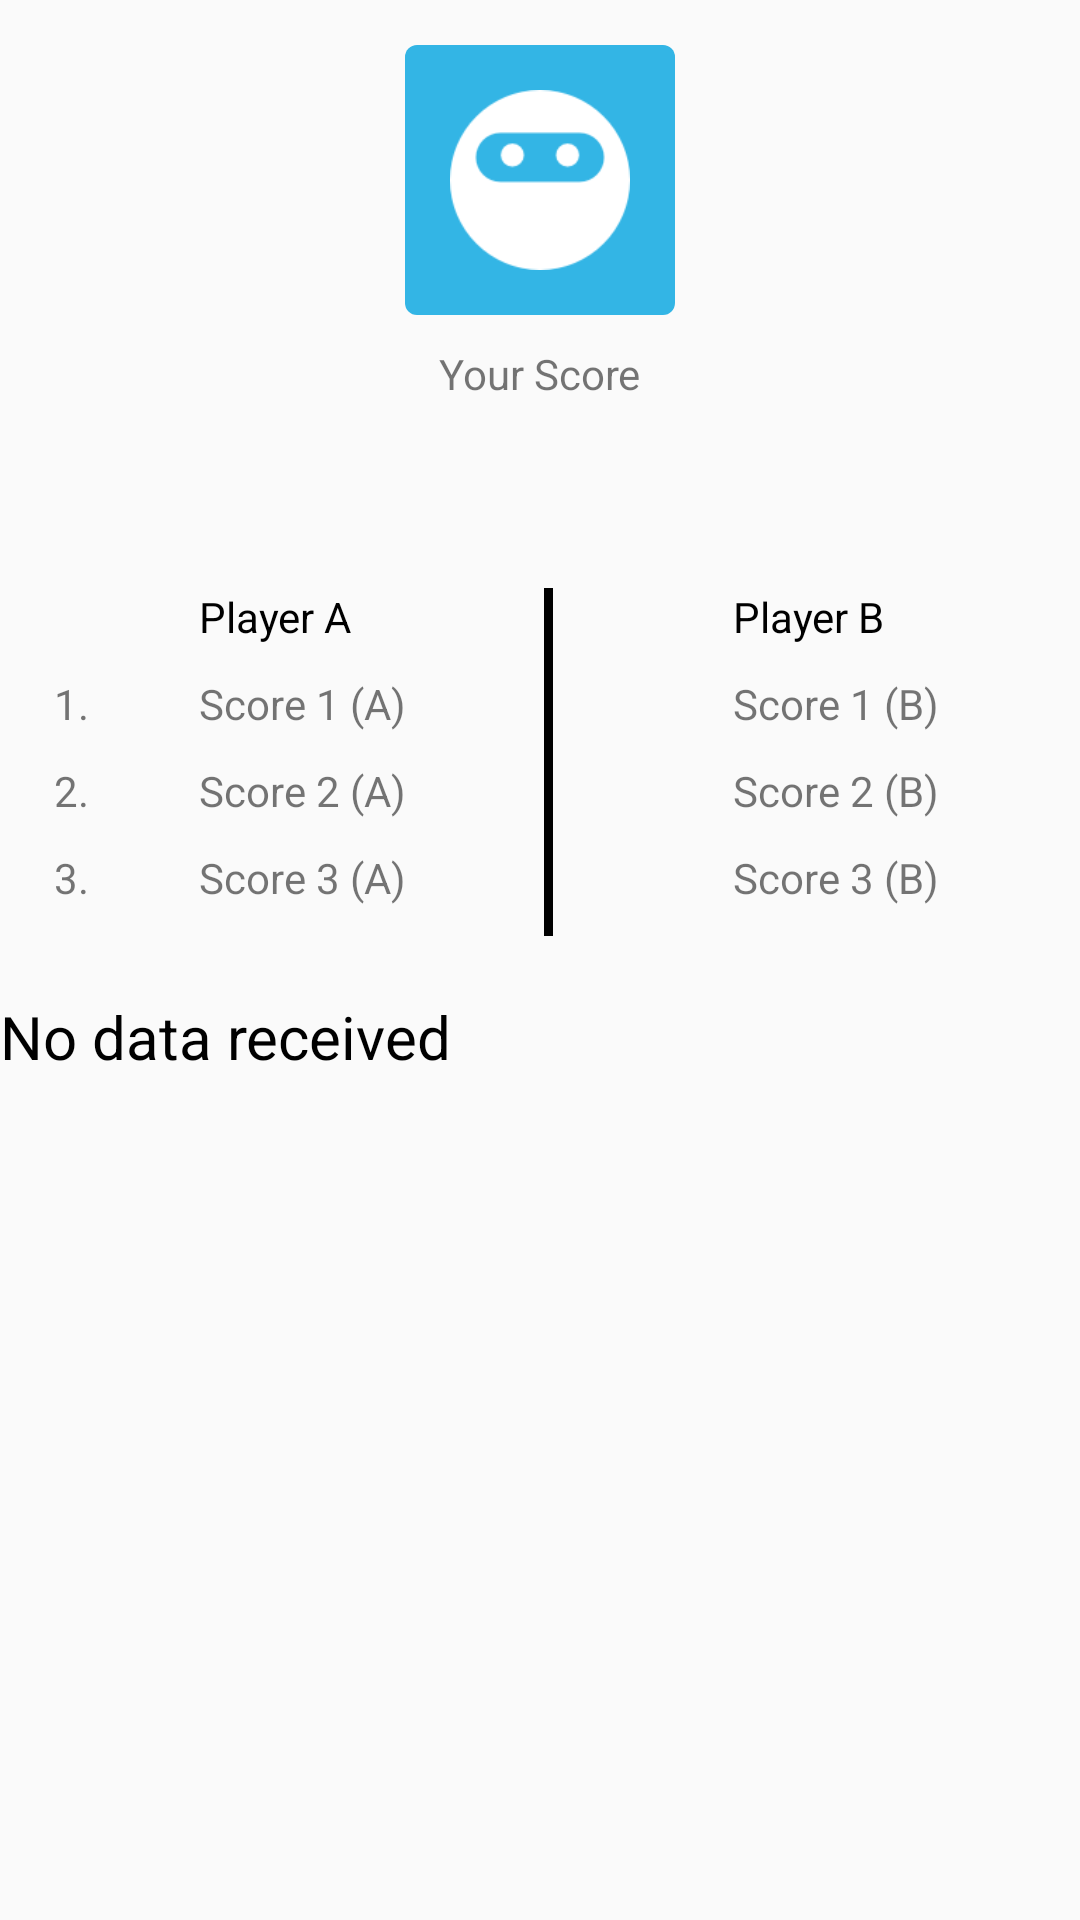

Where to tap for icons on this 1080x1920 app screen, as [x,y]:
ninja: [540,180]
